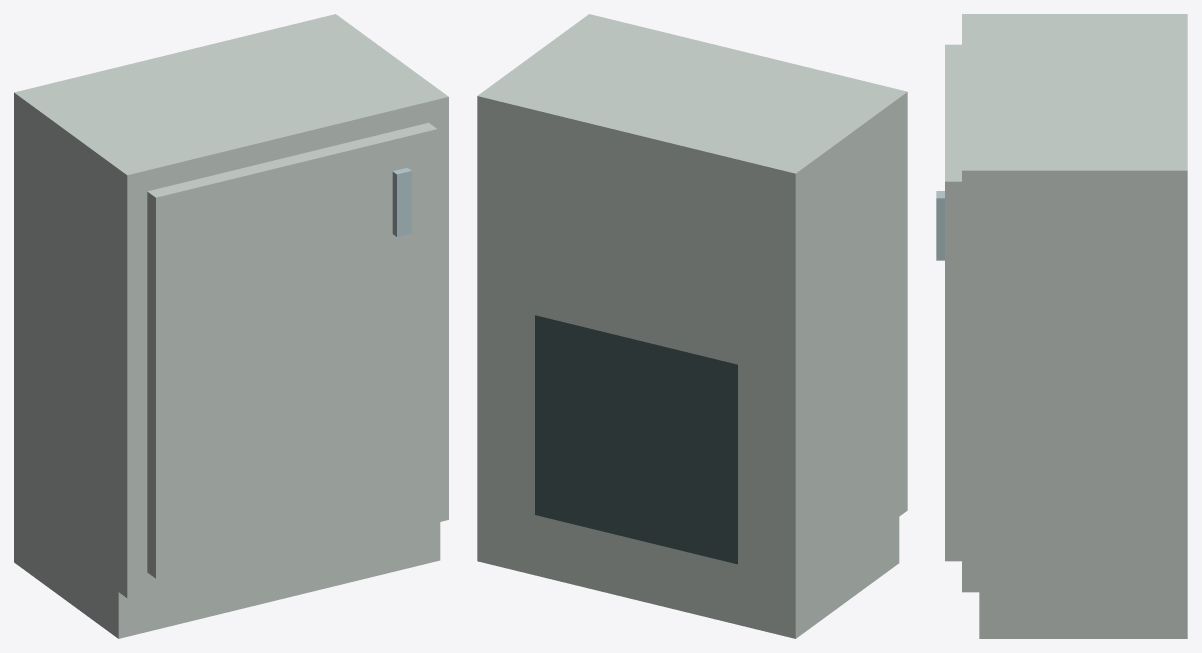
The model's file is kitchenFridgeSmall.glb.
The picture shows the model from 3 angles, left to right: view 1: azimuth 30°, elevation 25°; view 2: azimuth 150°, elevation 25°; view 3: azimuth 270°, elevation 25°; orthographic projection.
Parts seen in each view (by area): view 1: kitchenFridgeSmall; view 2: kitchenFridgeSmall; view 3: kitchenFridgeSmall.
Part boxes in pixels (bbox=[...]): kitchenFridgeSmall: bbox=[14, 14, 448, 638]; kitchenFridgeSmall: bbox=[477, 14, 907, 638]; kitchenFridgeSmall: bbox=[936, 14, 1187, 638].
Size of the model in its own units: 0.86 by 1.2 by 0.5839.
